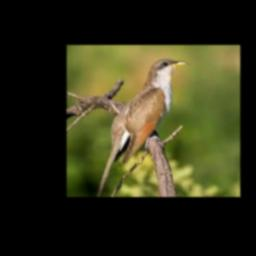Cuckoo: (96, 59, 188, 197)
